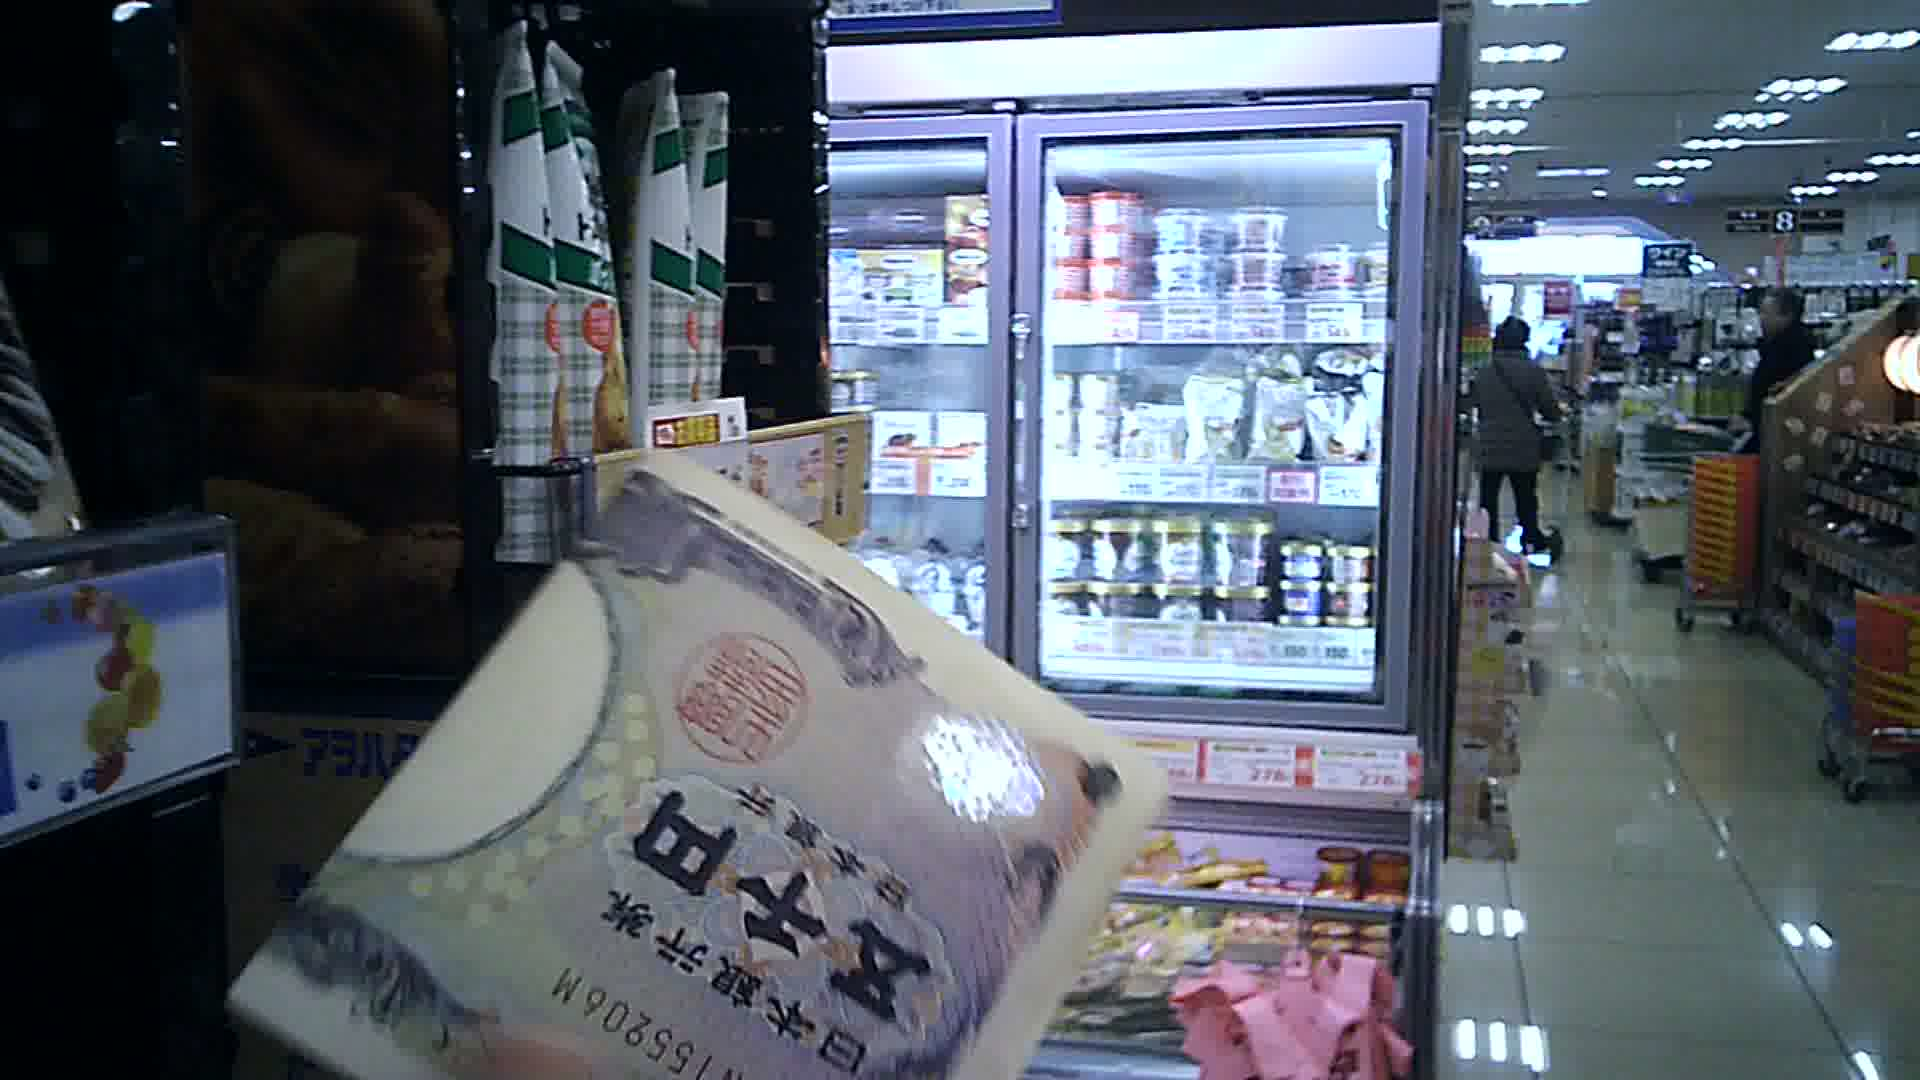5,000 Yen: (225, 469, 1145, 1079)
